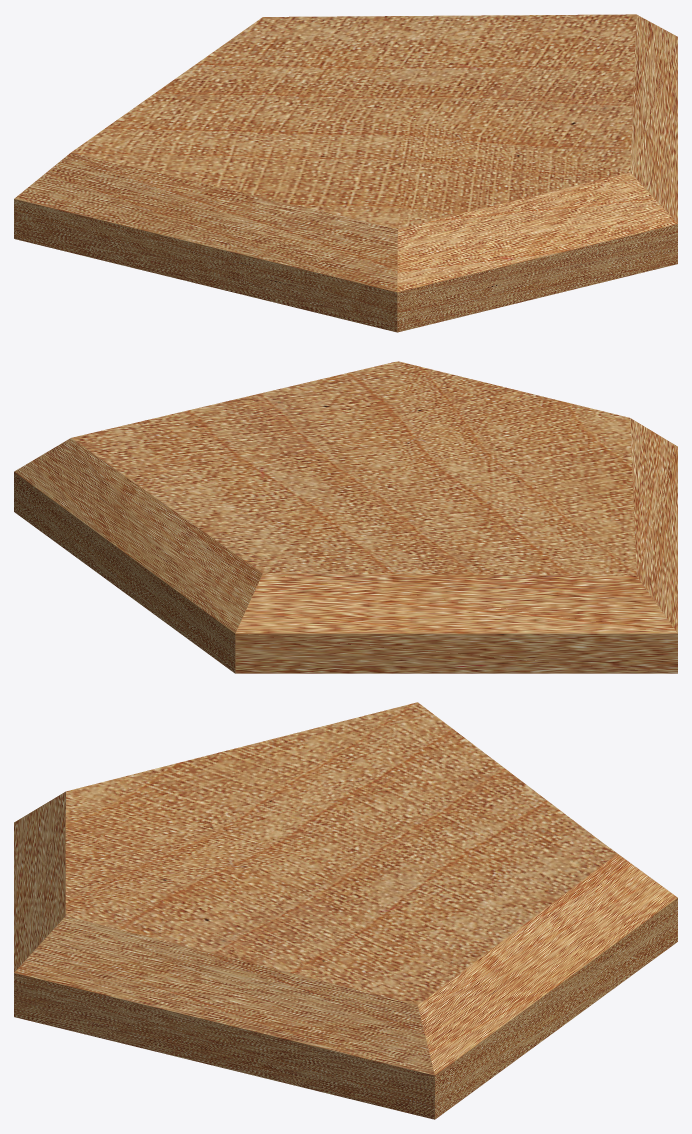
File: Pentagon.FBX
3 views of the same model, one above another, from view 1: azimuth 30°, elevation 25°; view 2: azimuth 150°, elevation 25°; view 3: azimuth 270°, elevation 25° (orthographic). The views are drawn at different scales.
Visible parts, largest first — view 1: Pentagon; view 2: Pentagon; view 3: Pentagon.
Boxes of the visible parts, bbox=[...] form: Pentagon: bbox=[14, 14, 677, 332]; Pentagon: bbox=[14, 361, 677, 673]; Pentagon: bbox=[14, 702, 677, 1119].
Size of the model in its own units: 17.32 by 13.66 by 2.
